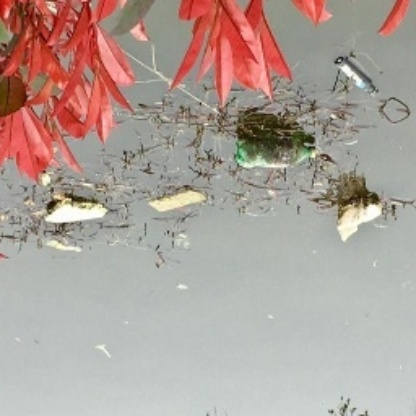bottle: (234, 133, 323, 177), (333, 53, 382, 100)
plastic-garbage: (42, 197, 110, 227)
